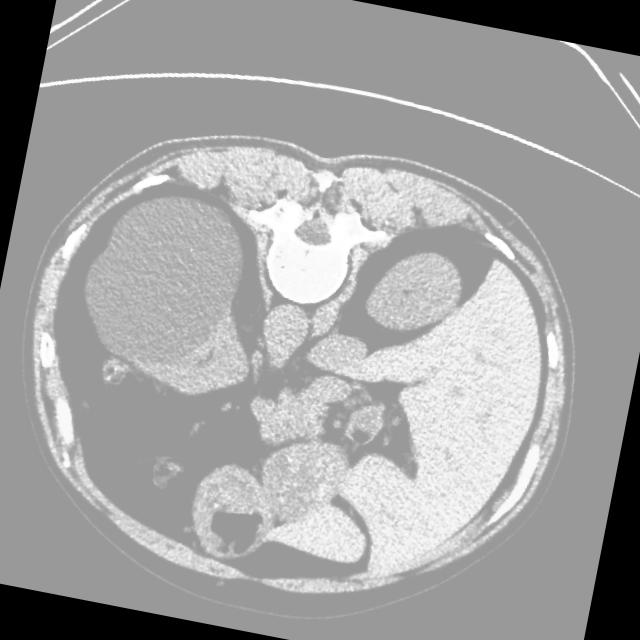cysts: (0, 96, 609, 640)
